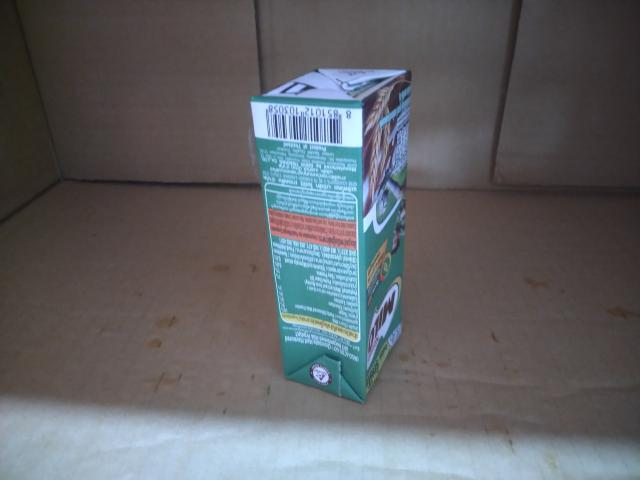drink_box: (239, 56, 458, 415)
